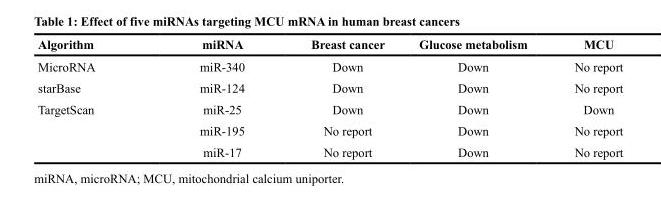table: (37, 36, 622, 158)
table column: (401, 36, 550, 158), (146, 36, 277, 158), (277, 36, 401, 158), (37, 36, 146, 158), (550, 36, 622, 158)
table column header: (37, 36, 622, 54)
table row: (37, 54, 622, 76), (37, 76, 622, 98), (37, 98, 622, 119), (37, 119, 622, 140), (37, 36, 622, 54), (37, 140, 622, 158)
table spanning cell: (37, 98, 146, 158)
